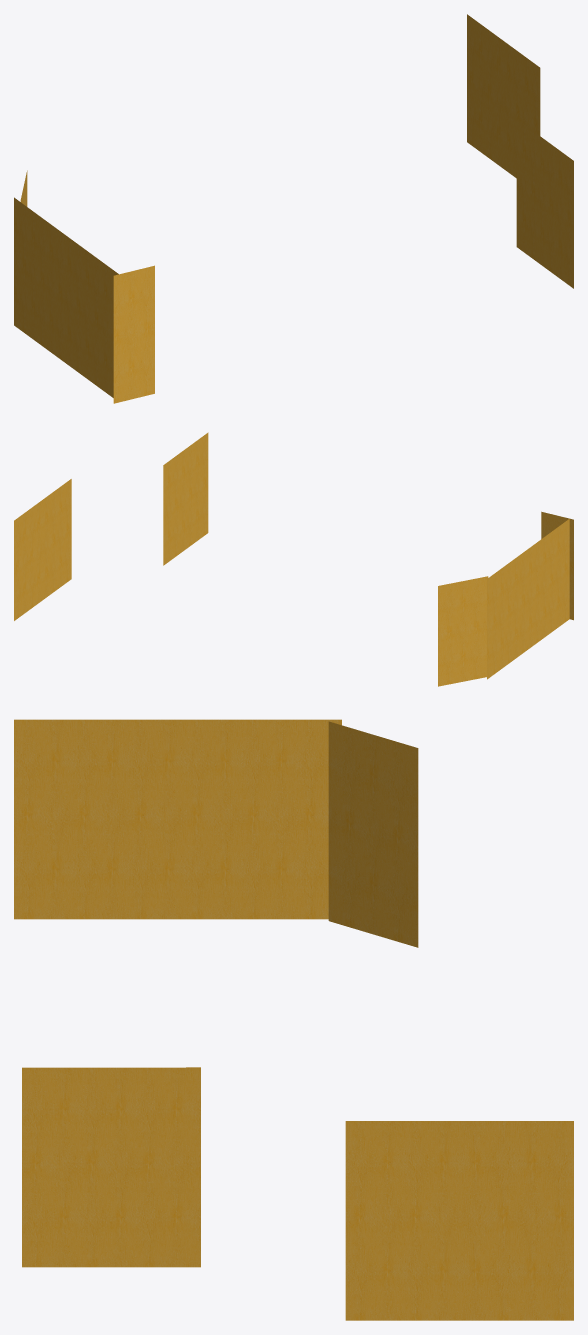
File: house_curtains.gltf
3 renders of one model, top to bottom at view 1: azimuth 30°, elevation 25°; view 2: azimuth 150°, elevation 25°; view 3: azimuth 270°, elevation 25°, orthographic. The views are drawn at different scales.
Visible parts, largest first — view 1: Сurtains.007, Сurtains.003, Сurtains.002, Сurtains.005, Сurtains.004; view 2: Сurtains.007, Сurtains.001, Сurtains.003, Сurtains.004, Сurtains.005, Сurtains.002; view 3: Сurtains.007, Сurtains.003, Сurtains.004, Сurtains.005, Сurtains.001.
Boxes of the visible parts, <box> form: Сurtains.007: <box>14,197,118,397</box>; Сurtains.003: <box>516,119,573,288</box>; Сurtains.002: <box>113,265,154,403</box>; Сurtains.005: <box>467,14,503,168</box>; Сurtains.004: <box>503,41,540,178</box>; Сurtains.007: <box>487,519,569,679</box>; Сurtains.001: <box>438,576,488,686</box>; Сurtains.003: <box>163,432,208,565</box>; Сurtains.004: <box>42,479,71,599</box>; Сurtains.005: <box>14,500,42,620</box>; Сurtains.002: <box>541,511,573,620</box>; Сurtains.007: <box>14,719,341,919</box>; Сurtains.003: <box>22,1067,200,1267</box>; Сurtains.004: <box>345,1121,459,1320</box>; Сurtains.005: <box>459,1121,573,1320</box>; Сurtains.001: <box>328,721,418,947</box>.
Bounding box in the file's own units: 13.06 × 3 × 7.62.
1 material, 1 textured.
